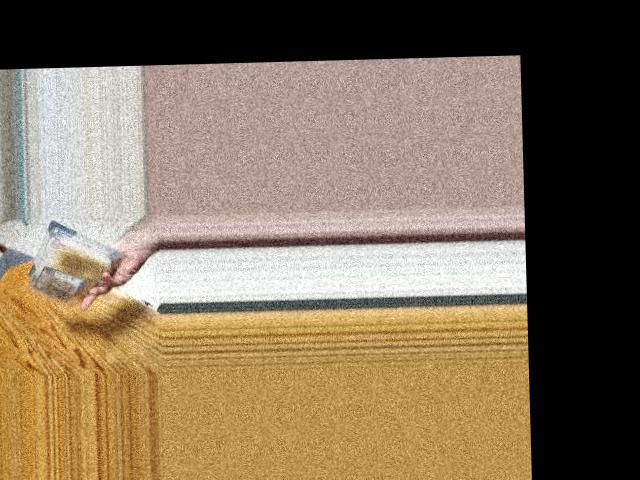cheese: (25, 226, 121, 293)
